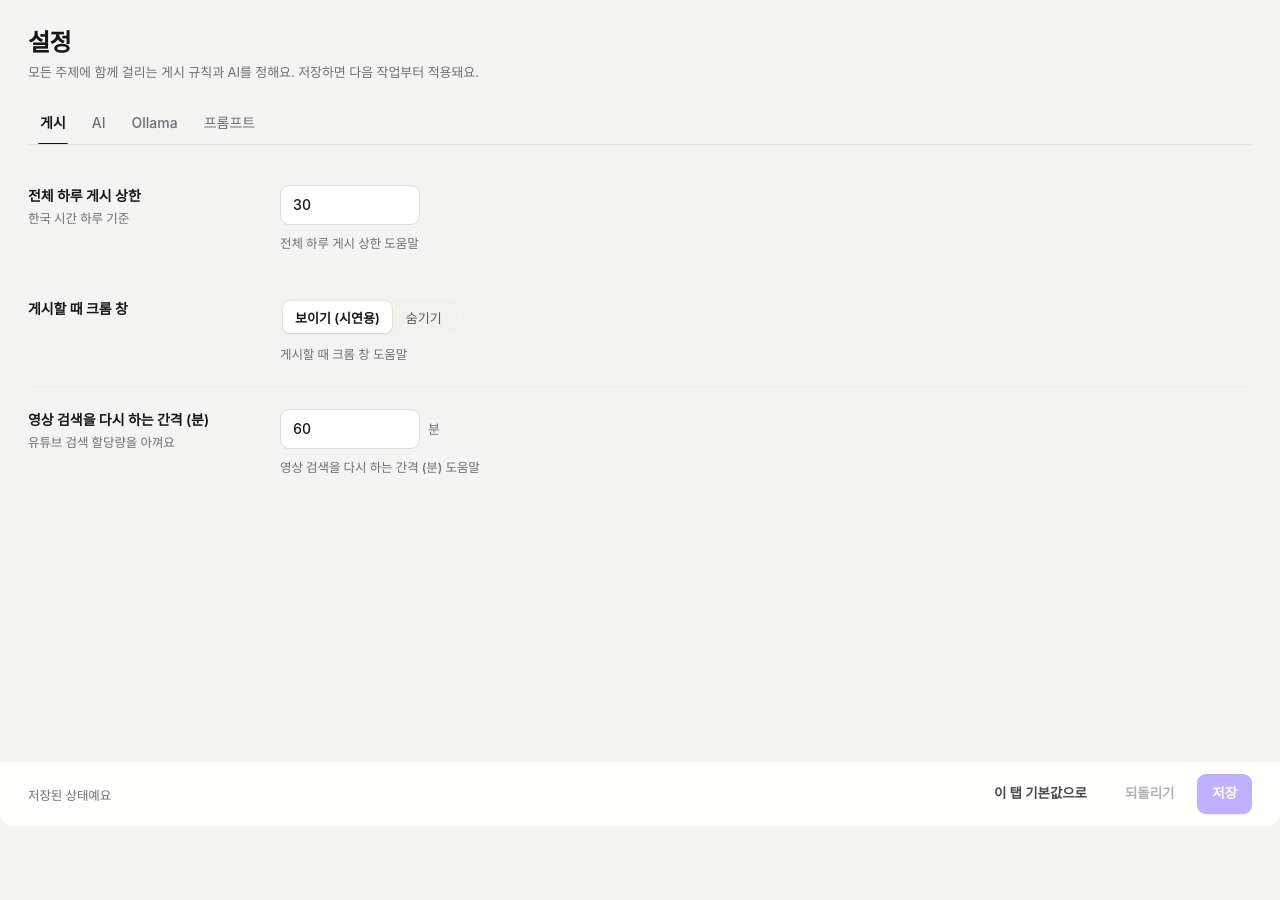
it: 설정 (탭 · 아래 저장 막대) › 칸을 고치면 바뀐 내용 수와 탭 점이 보이고, 되돌리면 사라진다
Later steps or results of the test are not shown.
Expected: the text "저장된 상태예요" is shown, x1=28 y1=788 x2=111 y2=802
Replace the text in the field labelled "전체 하루 게시 상한" with "20" at (350, 205), box x1=280 y1=185 x2=420 y2=225
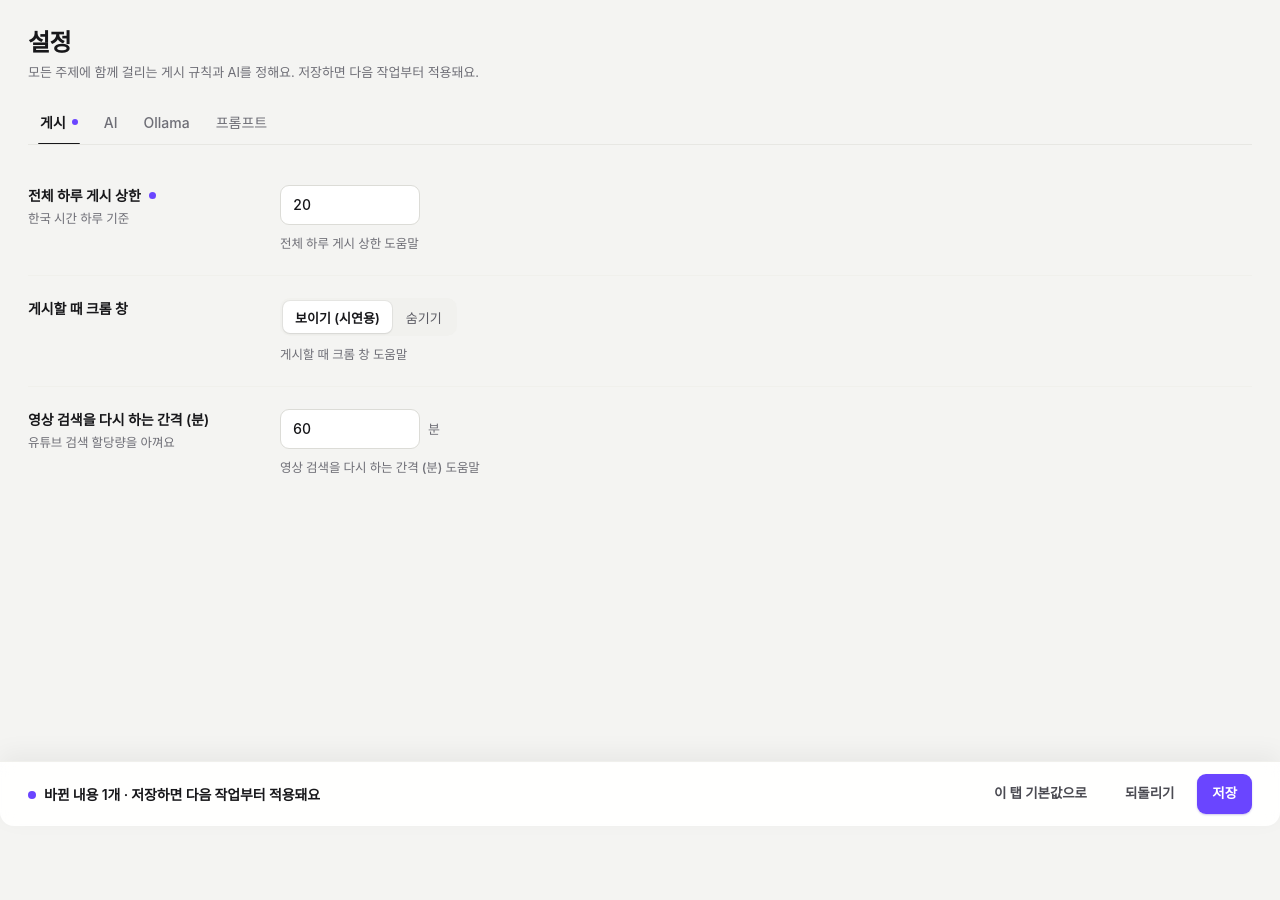
Now the text "바뀐 내용 1개 · 저장하면 다음 작업부터 적용돼요" is shown, box x1=28 y1=784 x2=320 y2=805
Now the element with class "dk-tab-mark" is shown, box x1=72 y1=119 x2=78 y2=125
Note: 저장된 값으로 다시 고치면 바뀐 것이 아니다
Replace the text in the field labelled "전체 하루 게시 상한" with "30" at (350, 205), box x1=280 y1=185 x2=420 y2=225
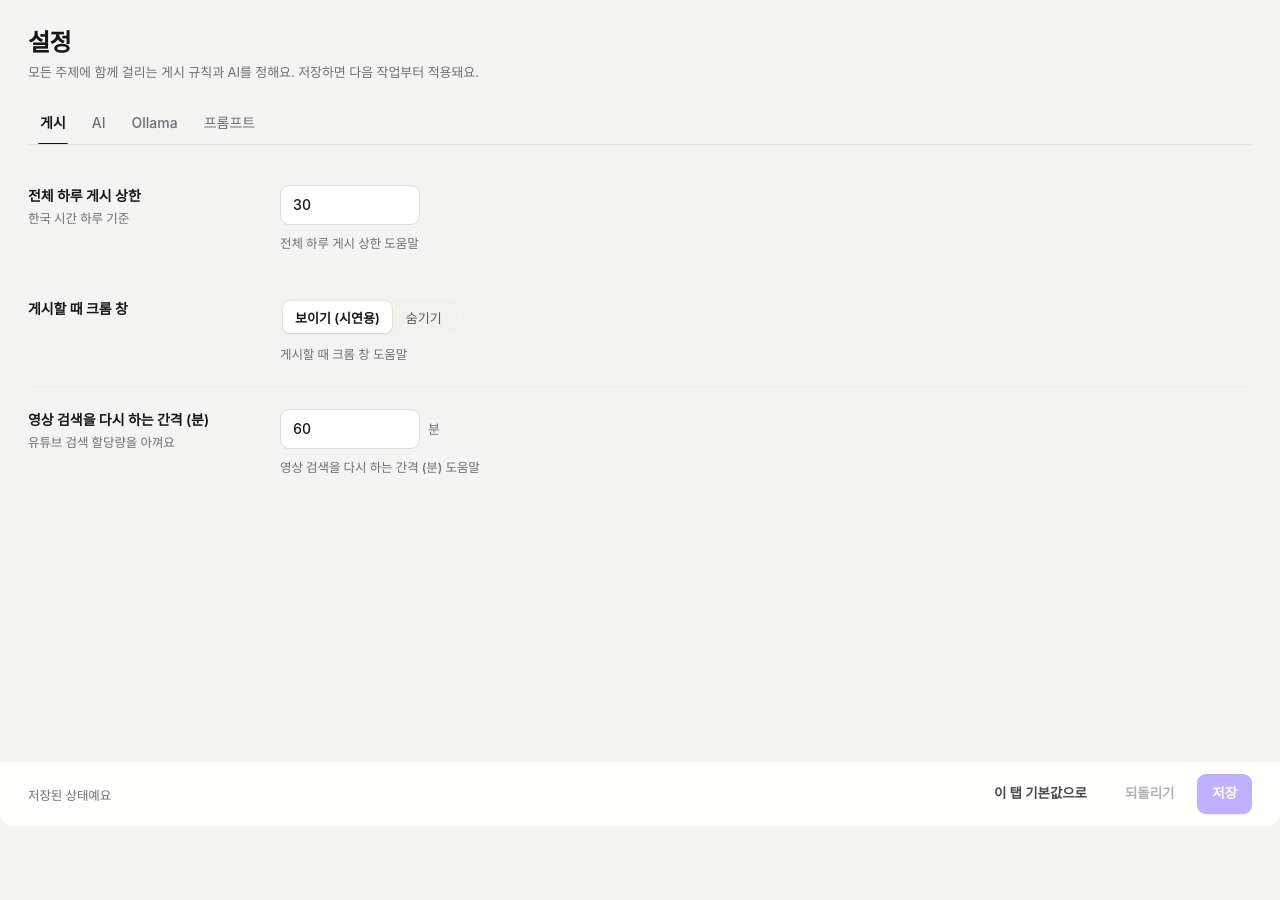
Now the text "저장된 상태예요" is shown, box x1=28 y1=788 x2=111 y2=802
